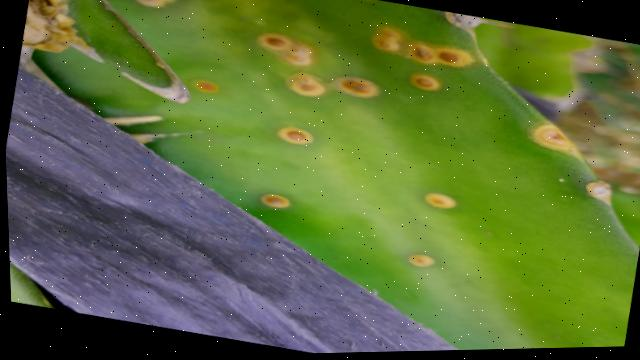stemcanker: (370, 23, 471, 70), (256, 29, 316, 67), (528, 120, 578, 154), (332, 76, 383, 104), (286, 73, 330, 101), (405, 72, 447, 94), (277, 126, 315, 149), (259, 190, 294, 214), (424, 189, 458, 213), (586, 176, 615, 202), (408, 250, 438, 272), (191, 77, 219, 94)
